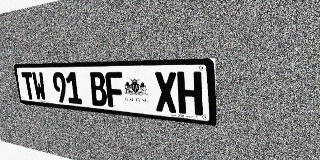1: (64, 72, 82, 104)
9: (52, 72, 68, 103)
B: (88, 72, 108, 107)
F: (105, 72, 125, 108)
H: (177, 72, 203, 116)
T: (21, 72, 36, 100)
W: (31, 72, 47, 101)
X: (154, 72, 178, 113)
